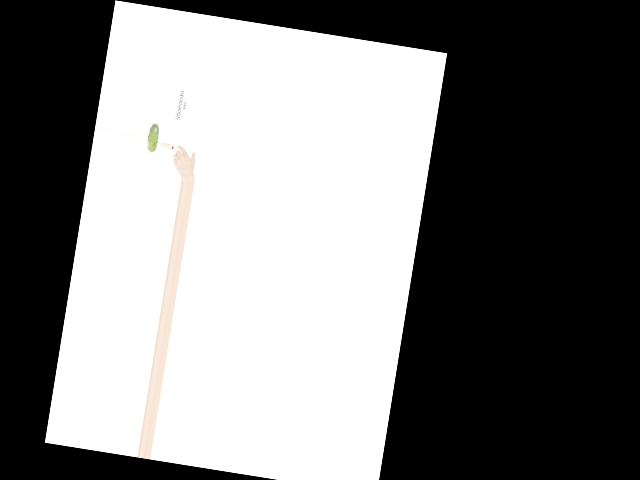cucumber: (146, 123, 160, 153)
